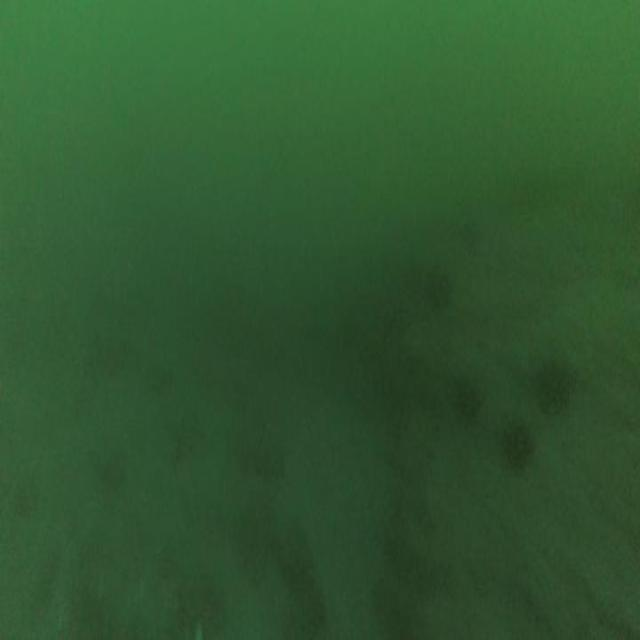echinus: (530, 351, 580, 423), (496, 408, 540, 479)
starfish: (449, 371, 487, 425)
